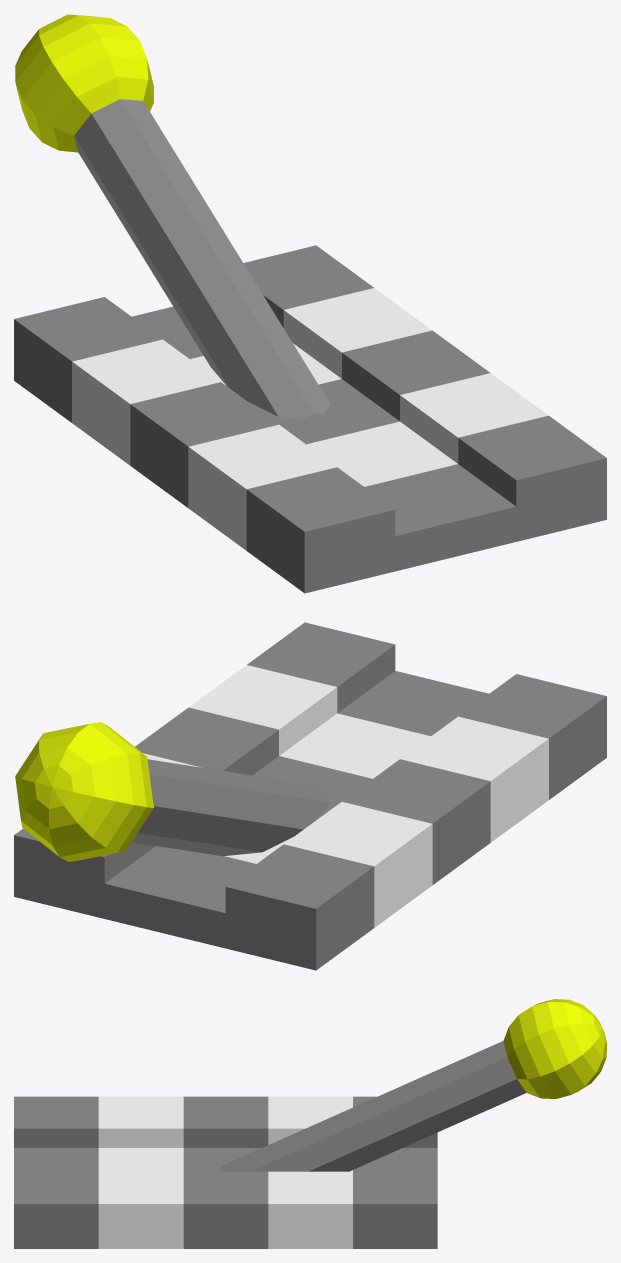
Rendered from Lever.fbx.
3 renders of one model, top to bottom at view 1: azimuth 30°, elevation 25°; view 2: azimuth 150°, elevation 25°; view 3: azimuth 270°, elevation 25°, orthographic. The views are drawn at different scales.
Parts seen in each view (by area): view 1: LeverBase, LeverHandle; view 2: LeverBase, LeverHandle; view 3: LeverBase, LeverHandle.
Boxes of the visible parts, x1,y1,x2,y2 form: LeverBase: [14, 245, 606, 593]; LeverHandle: [15, 14, 330, 419]; LeverBase: [14, 622, 606, 970]; LeverHandle: [15, 722, 330, 861]; LeverBase: [14, 1096, 437, 1248]; LeverHandle: [220, 999, 606, 1171].
Size of the model in its own units: 36 by 33.54 by 83.95.
